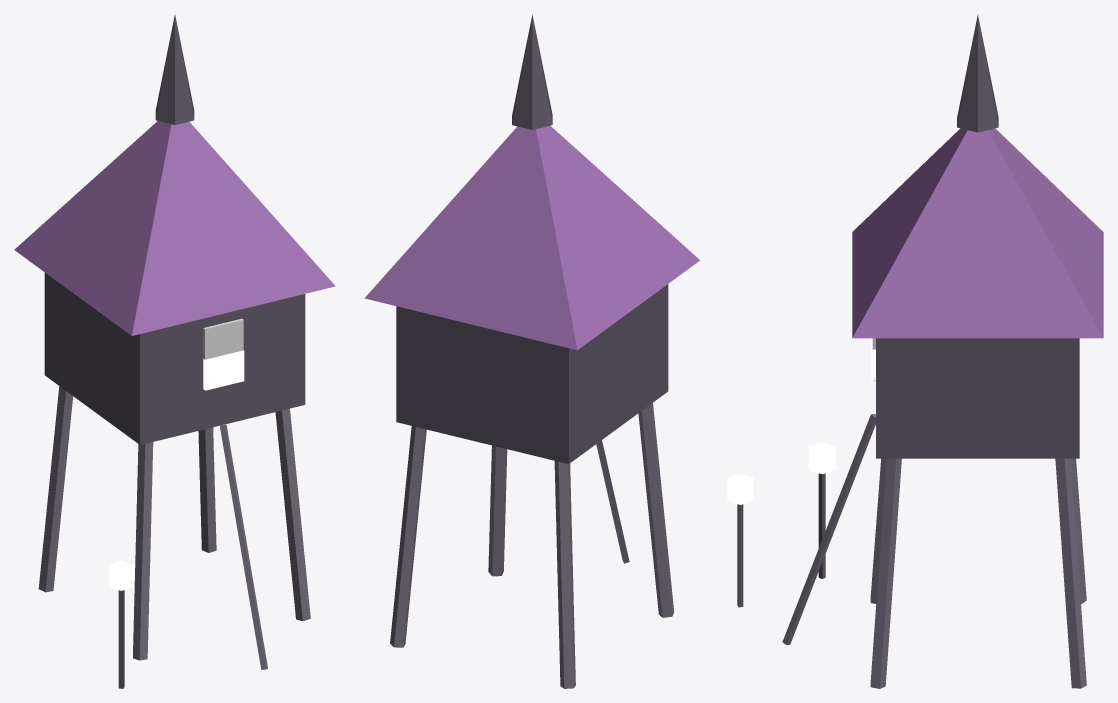
The picture shows the model from 3 angles, left to right: view 1: azimuth 30°, elevation 25°; view 2: azimuth 150°, elevation 25°; view 3: azimuth 270°, elevation 25°; orthographic projection. The views are drawn at different scales.
Parts seen in each view (by area): view 1: body; view 2: body; view 3: body.
Part boxes in pixels (box(x1,y1,x2,y2)): body: box(14, 15, 335, 688); body: box(364, 14, 753, 688); body: box(782, 14, 1103, 688).
Size of the model in its own units: 4.96 by 11.62 by 5.37.
